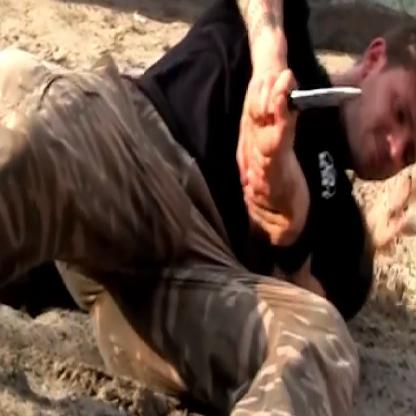knife: (249, 57, 370, 128)
